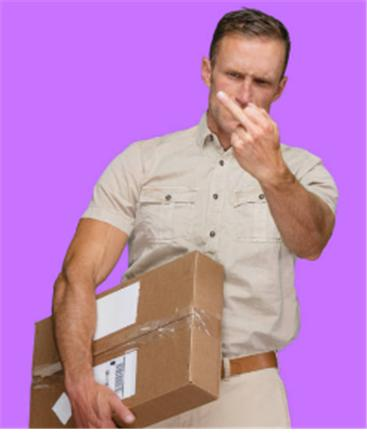insulting_gesture: (213, 88, 290, 187)
